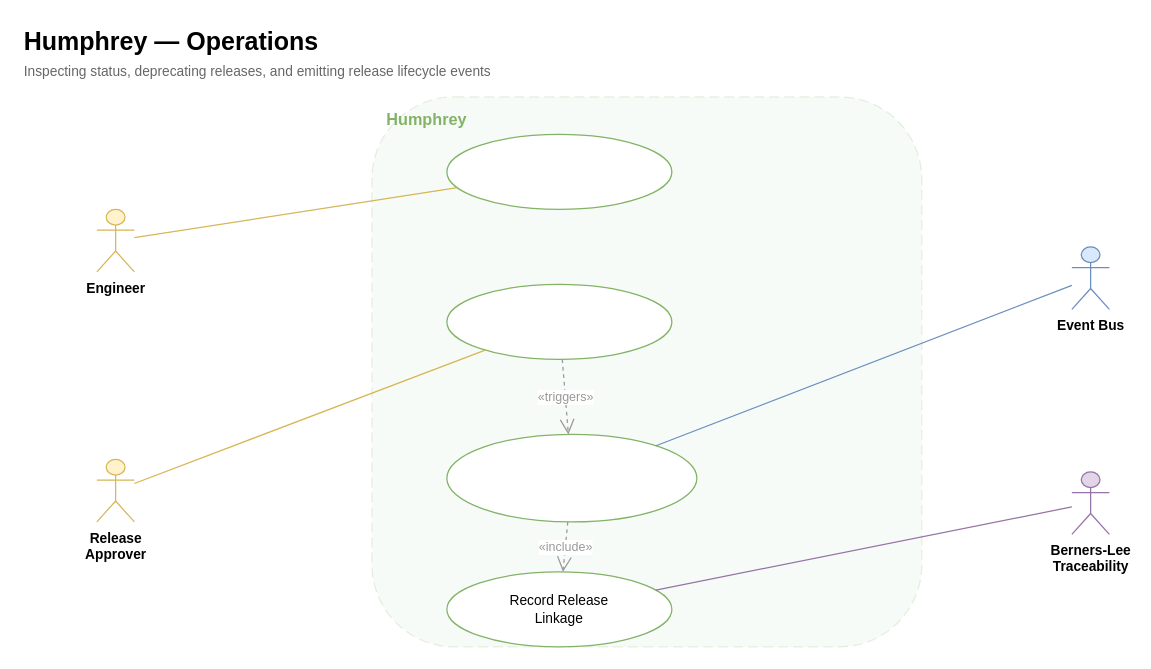
Image size: 1151x669. Some labels were removed from this diagram. Here are the shapes that lost their labels. From the top down, the centre of each, then its label:
At (559,171): "Inspect Release Status".
At (559,321): "Deprecate Release".
At (571,477): "Emit Release Events (candidate_created, promoted, blocked)".
